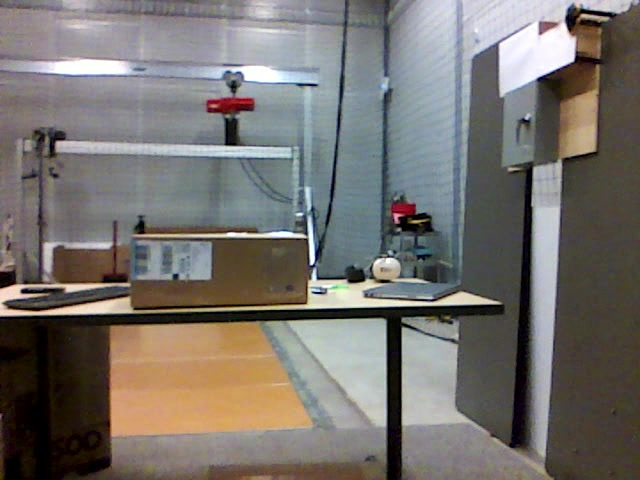box: (1, 326, 111, 473), (133, 232, 312, 304)
